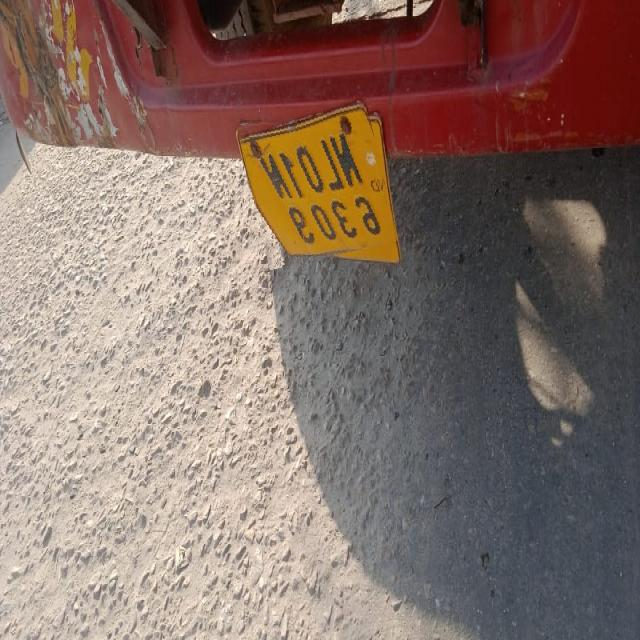License-plate: (244, 104, 390, 264)
